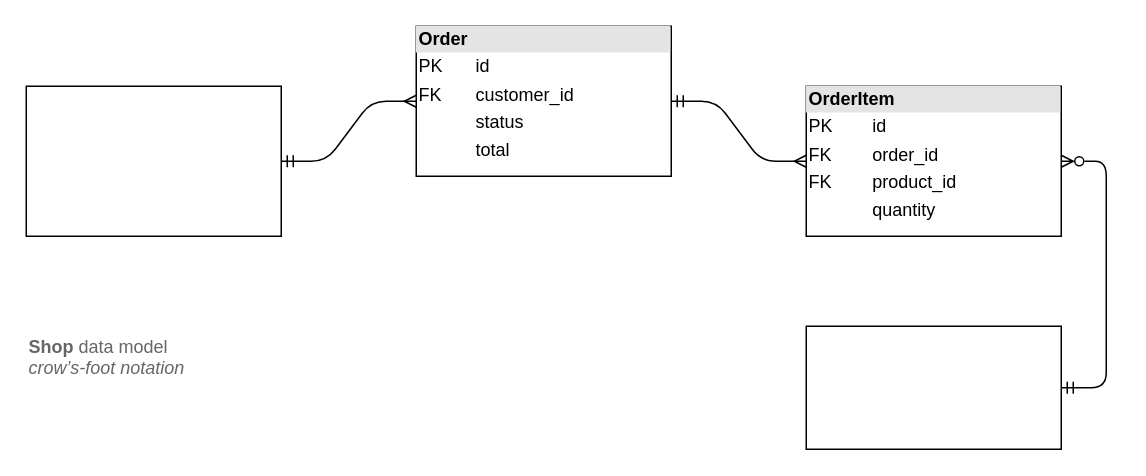
This 1146x476 diagram has some shape labels left out. The centre of each missing label's shape, as x and y in pixels:
Customer PK id name email created_at: point 153,160
Product PK id title price: point 933,387
